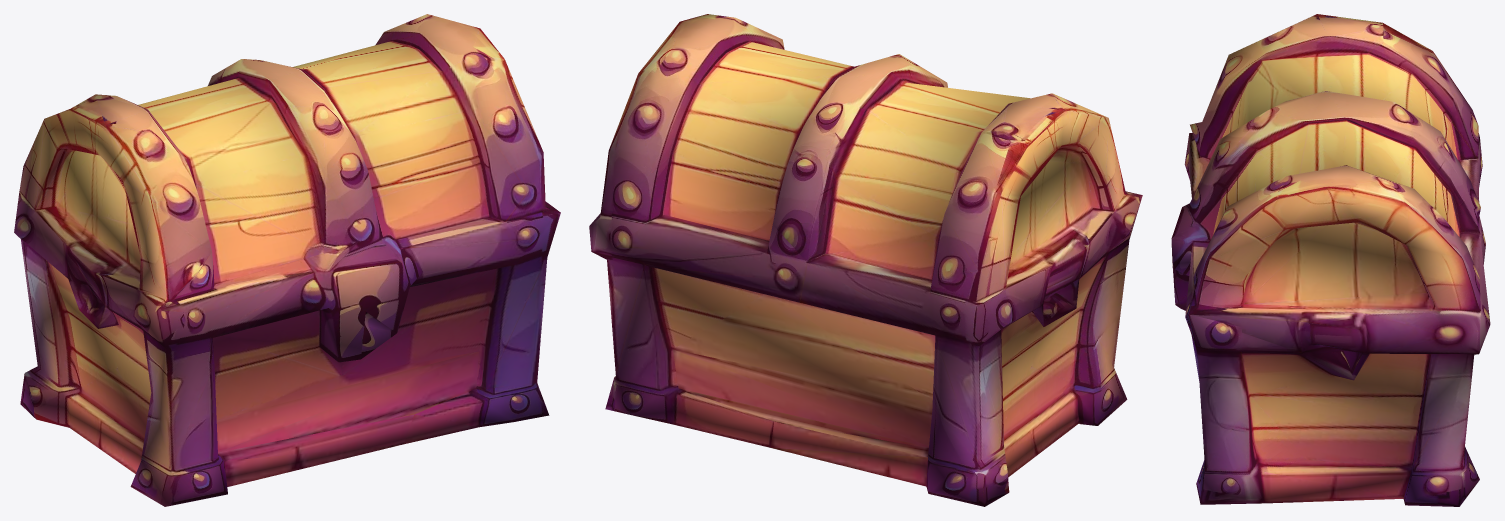
The model's file is chest-iron.glb.
3 views of the same model, side by side, from view 1: azimuth 30°, elevation 25°; view 2: azimuth 150°, elevation 25°; view 3: azimuth 270°, elevation 25° (orthographic). The views are drawn at different scales.
Size of the model in its own units: 1.92 by 1.49 by 1.36.
1 material, 1 textured.
